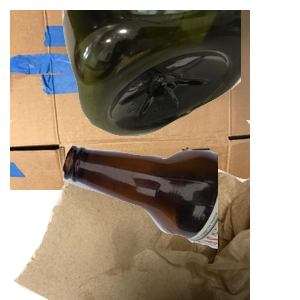cardboard: (10, 10, 250, 190)
glass: (60, 142, 300, 300)
plastic: (60, 10, 300, 139)
trash: (10, 120, 250, 300)
